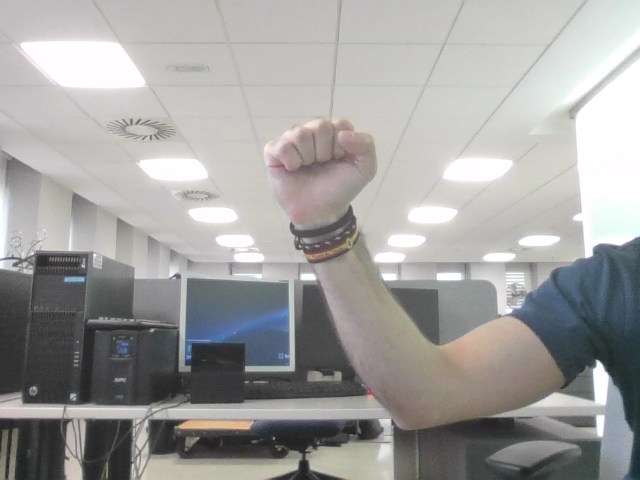Puño: (280, 124, 361, 194)
